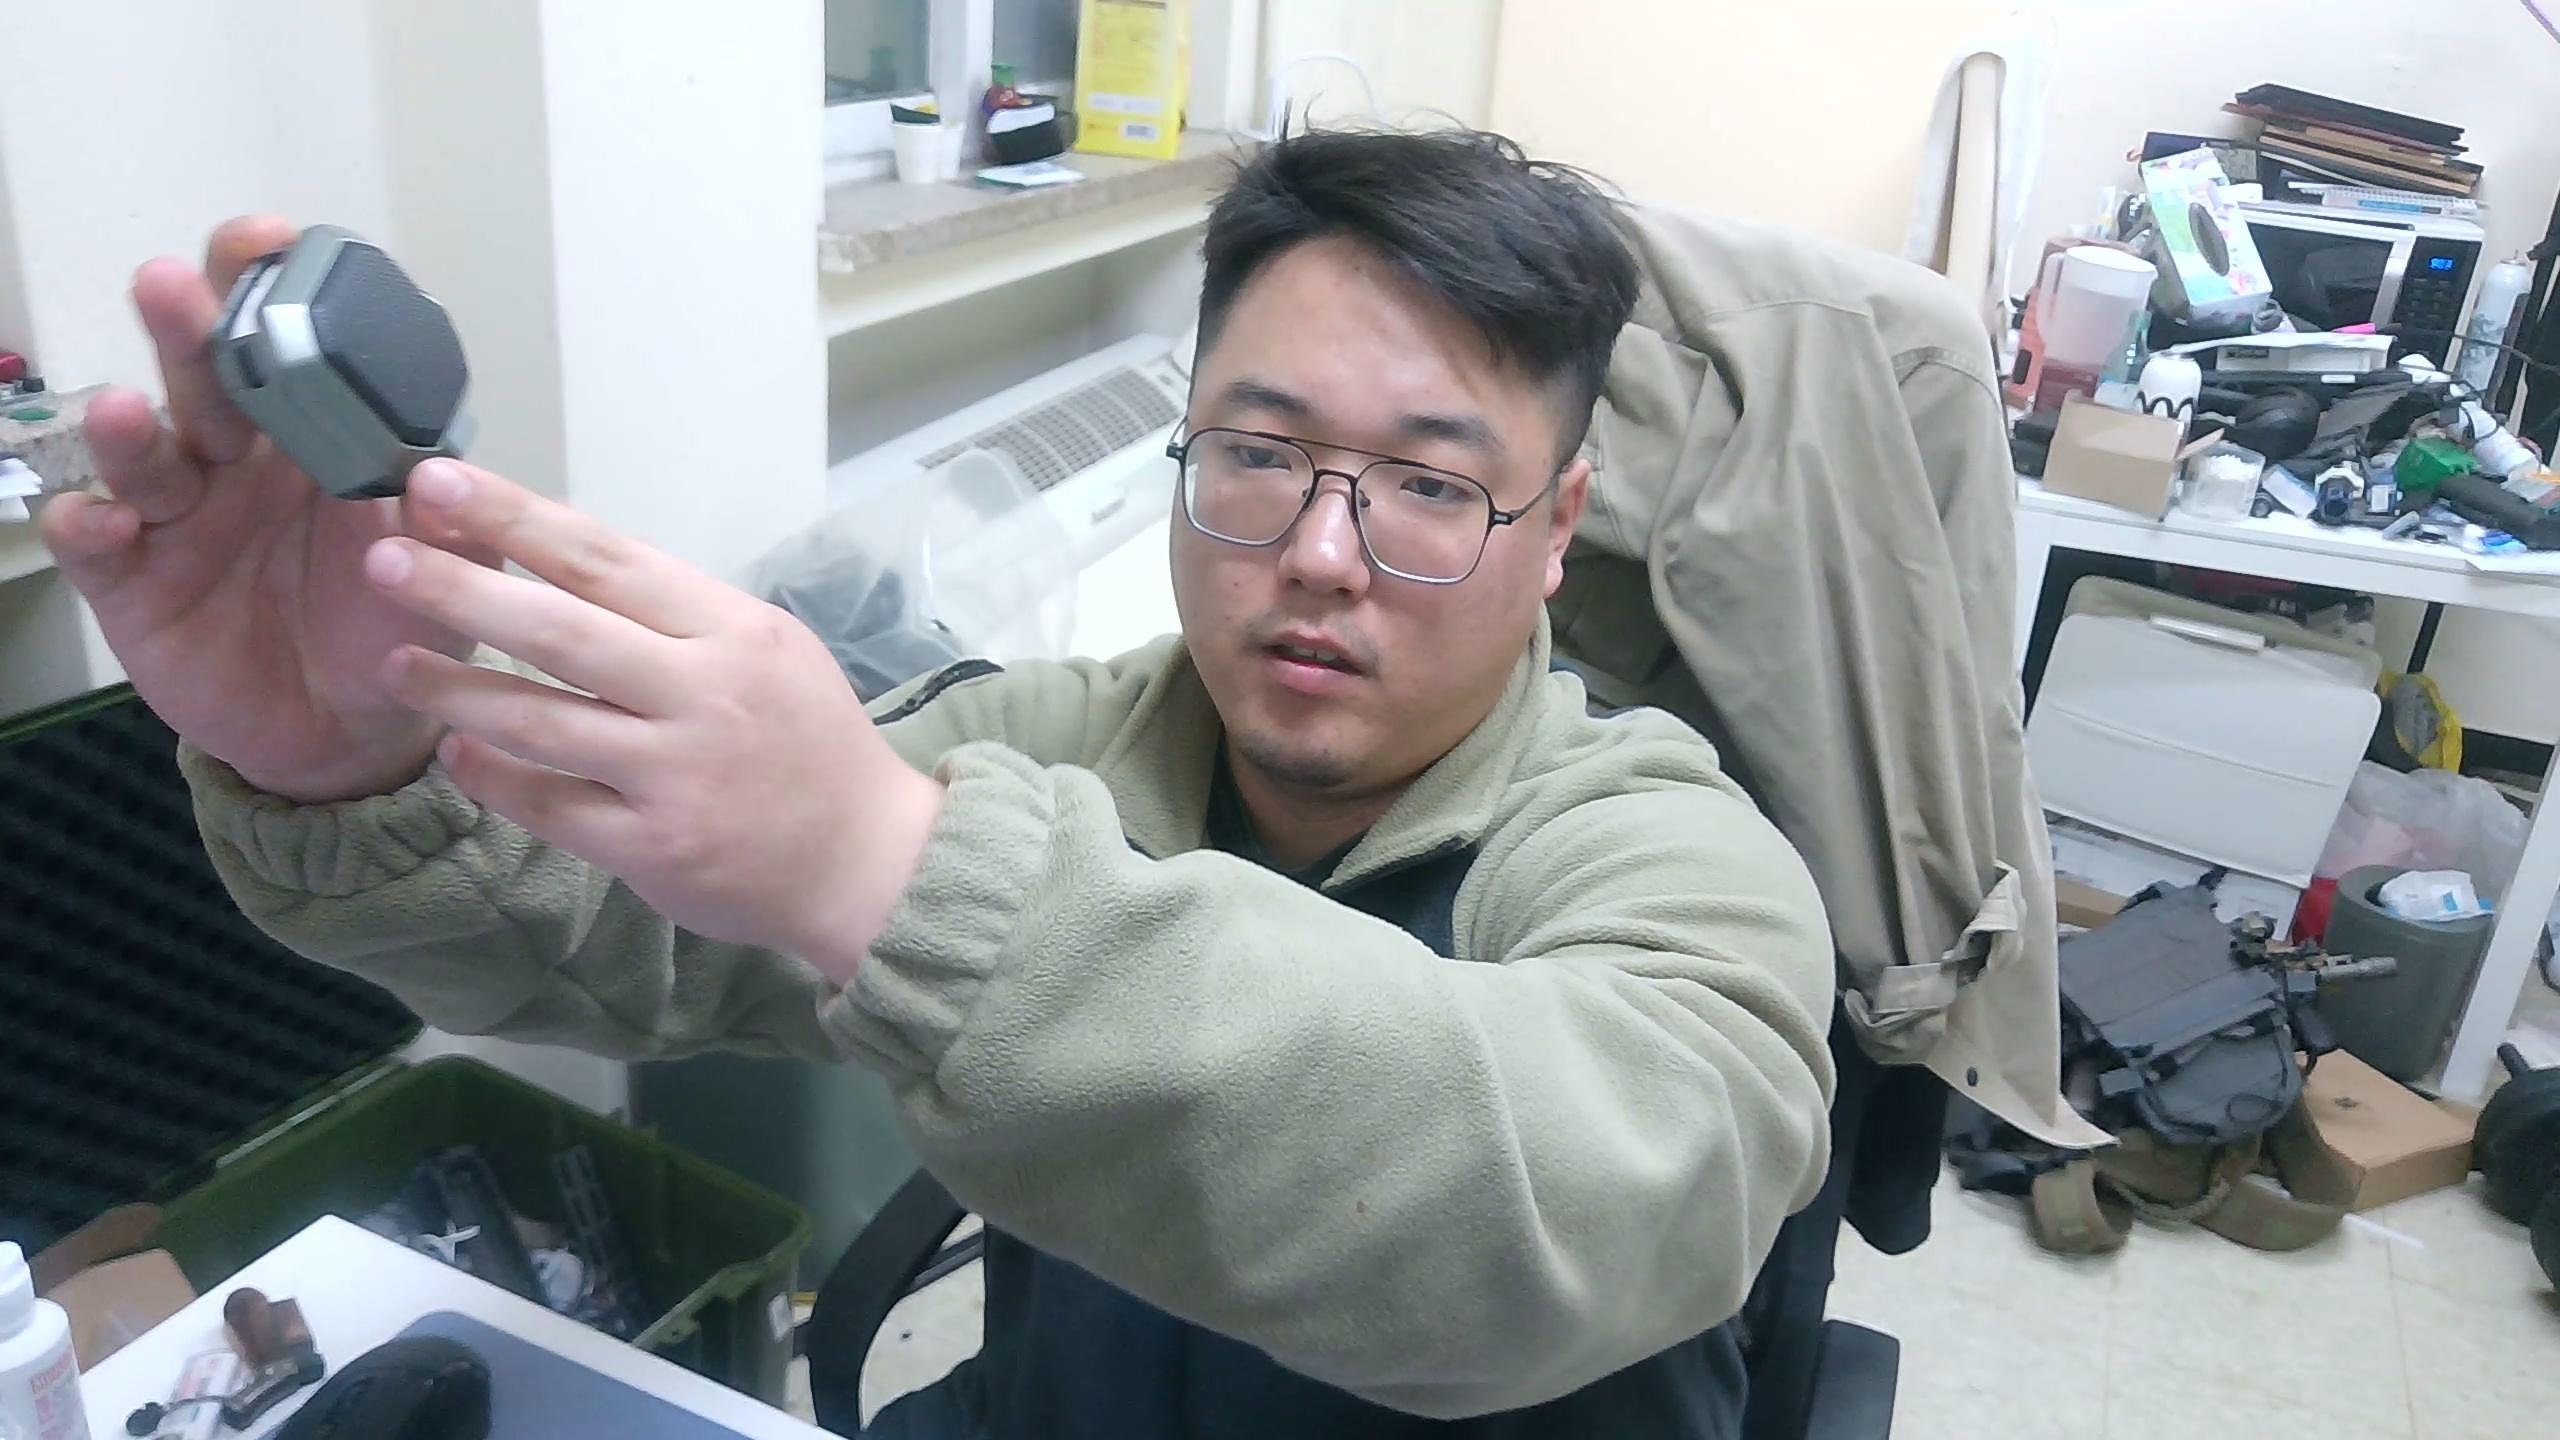blue_pliers: (206, 222, 478, 503)
